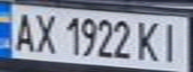1: (60, 12, 81, 56)
2: (112, 17, 136, 61), (96, 16, 115, 60)
9: (78, 14, 100, 57)
A: (6, 8, 39, 53)
I: (154, 19, 187, 63)
K: (133, 18, 163, 63)
X: (30, 10, 60, 54)
